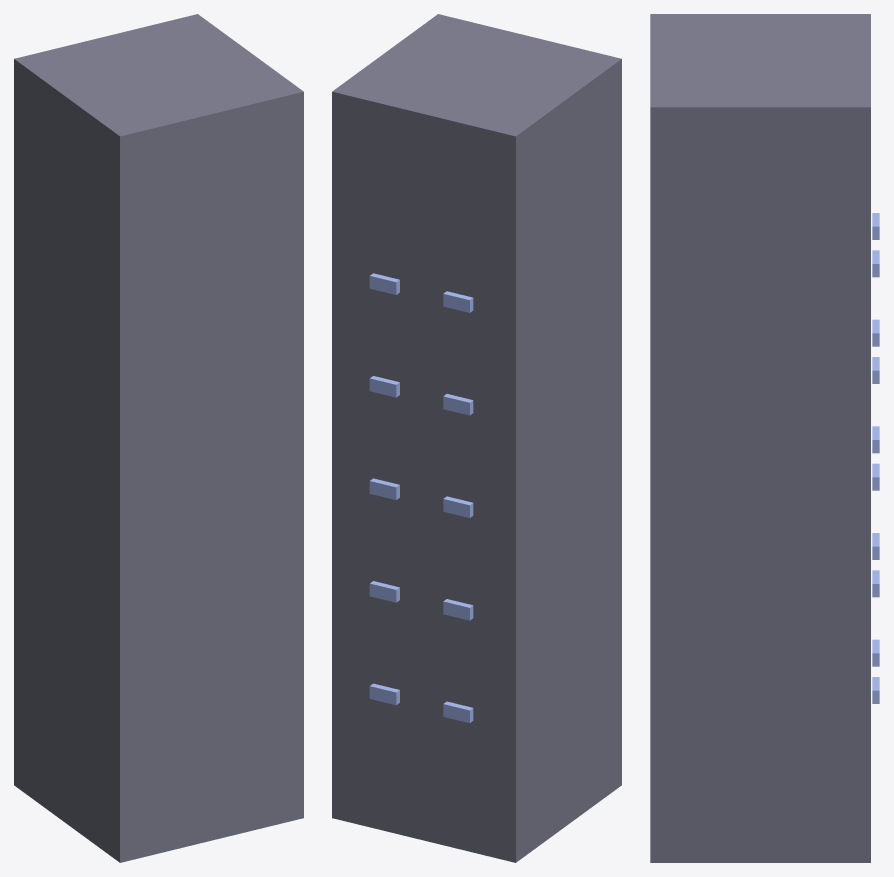
Rendered from building_city_tower.glb.
The picture shows the model from 3 angles, left to right: view 1: azimuth 30°, elevation 25°; view 2: azimuth 150°, elevation 25°; view 3: azimuth 270°, elevation 25°; orthographic projection. The views are drawn at different scales.
Visible parts, largest first — view 1: tower; view 2: tower; view 3: tower.
Part boxes in pixels (<box>): tower: <box>14,14,303,862</box>; tower: <box>332,14,621,862</box>; tower: <box>650,14,870,862</box>.
Size of the model in its own units: 0.9 by 3.4 by 0.935.
